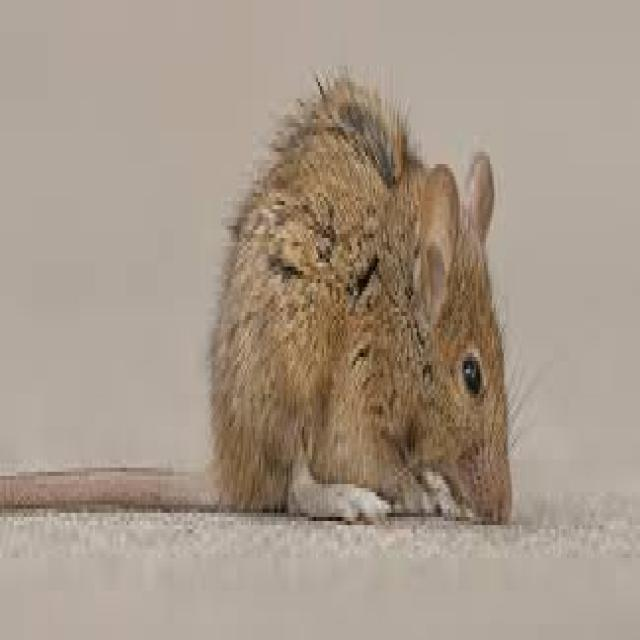Mouse: (199, 62, 518, 528)
